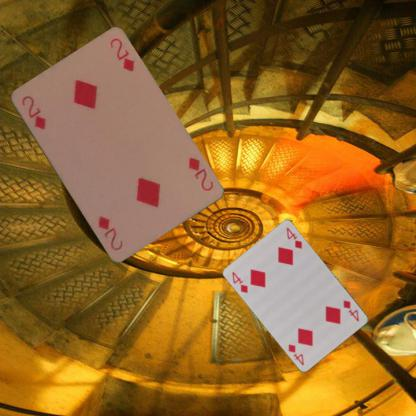2d: (18, 93, 48, 131), (185, 154, 214, 192)
4d: (230, 268, 250, 294), (341, 298, 360, 323)
